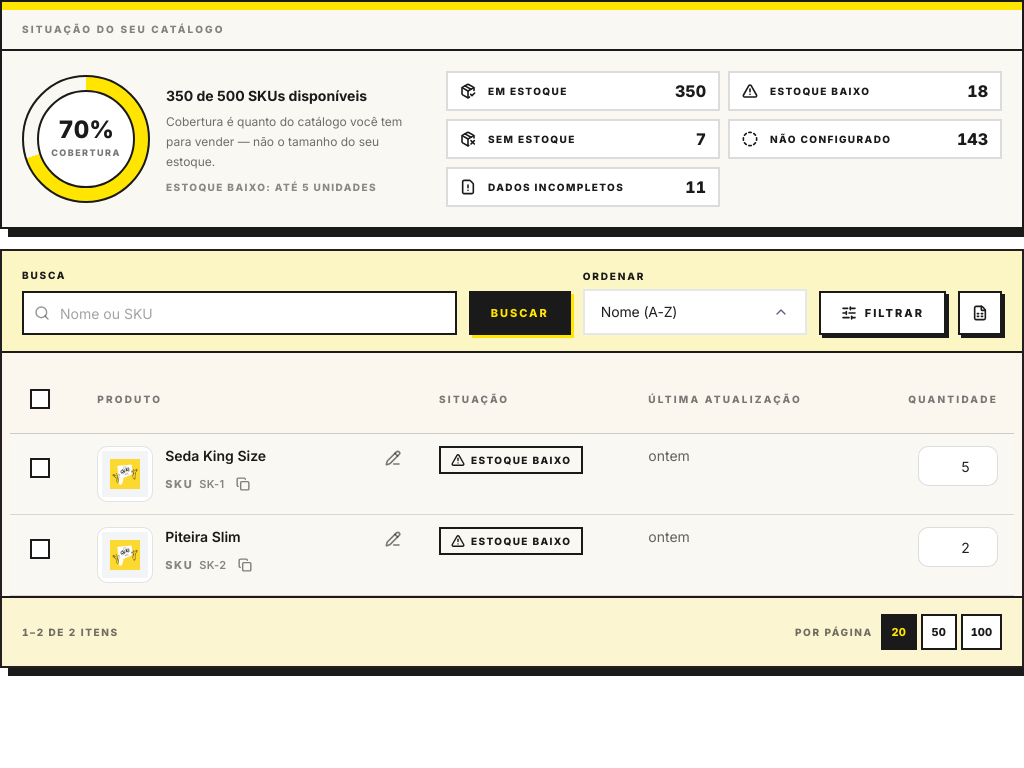
Scenario: VendorStockManager seleção em lote › states how many items the confirmation will change before writing
This screenshot has width=1024, height=768.
Click the checkbox named "Selecionar Seda King Size".
click(40, 468)  # box [30, 458, 50, 478]
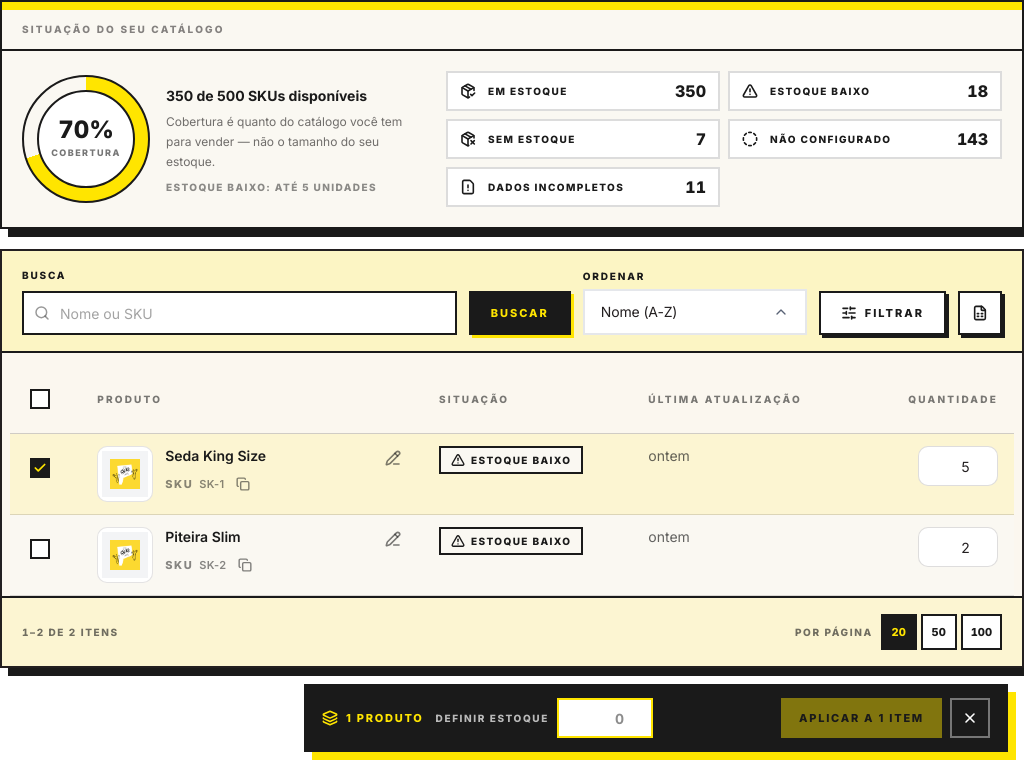
expect the button "Aplicar a 1 item" is shown: met, box [781, 698, 942, 738]
